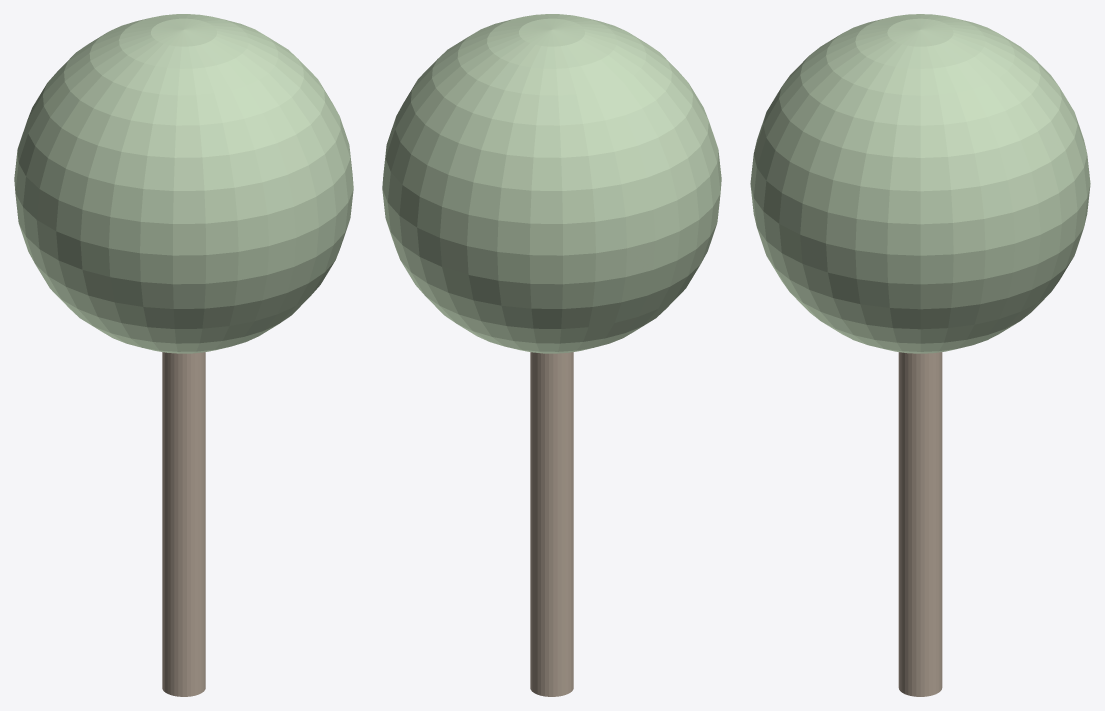
Rendered from MOD_TREE_EUCALYPTUS_STANDARD_001_LOD_CLOSE.glb.
3 views of the same model, side by side, from view 1: azimuth 30°, elevation 25°; view 2: azimuth 150°, elevation 25°; view 3: azimuth 270°, elevation 25° (orthographic).
Parts seen in each view (by area): view 1: MOD_TREE_EUCALYPTUS_STANDARD_001_CLOSE_CANOPY, MOD_TREE_EUCALYPTUS_STANDARD_001_CLOSE_TRUNK; view 2: MOD_TREE_EUCALYPTUS_STANDARD_001_CLOSE_CANOPY, MOD_TREE_EUCALYPTUS_STANDARD_001_CLOSE_TRUNK; view 3: MOD_TREE_EUCALYPTUS_STANDARD_001_CLOSE_CANOPY, MOD_TREE_EUCALYPTUS_STANDARD_001_CLOSE_TRUNK.
Boxes of the visible parts, left/top/right/bottom form: MOD_TREE_EUCALYPTUS_STANDARD_001_CLOSE_CANOPY: left=14, top=14, right=353, bottom=353; MOD_TREE_EUCALYPTUS_STANDARD_001_CLOSE_TRUNK: left=162, top=352, right=205, bottom=696; MOD_TREE_EUCALYPTUS_STANDARD_001_CLOSE_CANOPY: left=382, top=14, right=721, bottom=353; MOD_TREE_EUCALYPTUS_STANDARD_001_CLOSE_TRUNK: left=530, top=352, right=573, bottom=696; MOD_TREE_EUCALYPTUS_STANDARD_001_CLOSE_CANOPY: left=750, top=14, right=1090, bottom=353; MOD_TREE_EUCALYPTUS_STANDARD_001_CLOSE_TRUNK: left=898, top=352, right=942, bottom=696.
Size of the model in its own units: 1.56 by 3.33 by 1.56.
